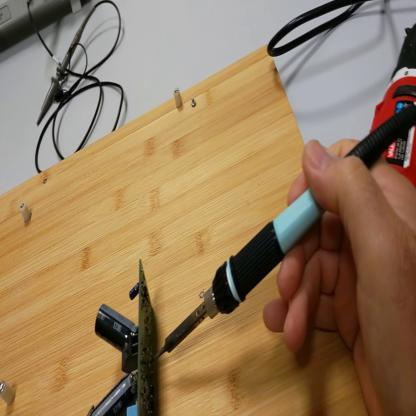electric screwdriver: (373, 23, 416, 185)
hand: (270, 133, 416, 416)
high voltage board: (92, 260, 158, 415)
oscilloscope: (2, 1, 76, 45)
oscilloscope probe tip: (37, 20, 83, 128)
welder probe tip: (152, 105, 416, 364)
working area: (1, 45, 369, 415)
